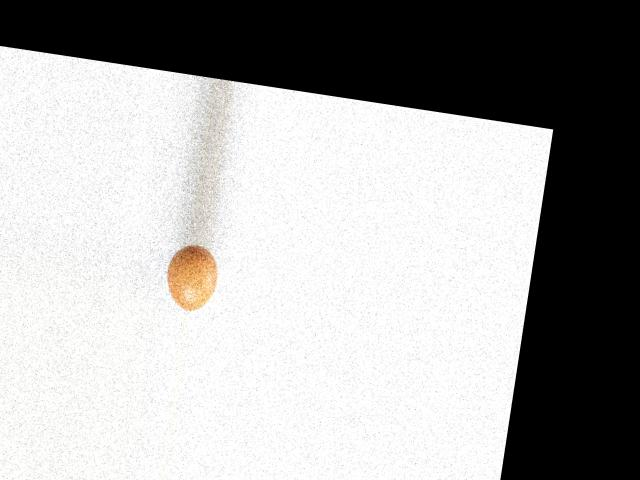egg: (161, 241, 220, 313)
